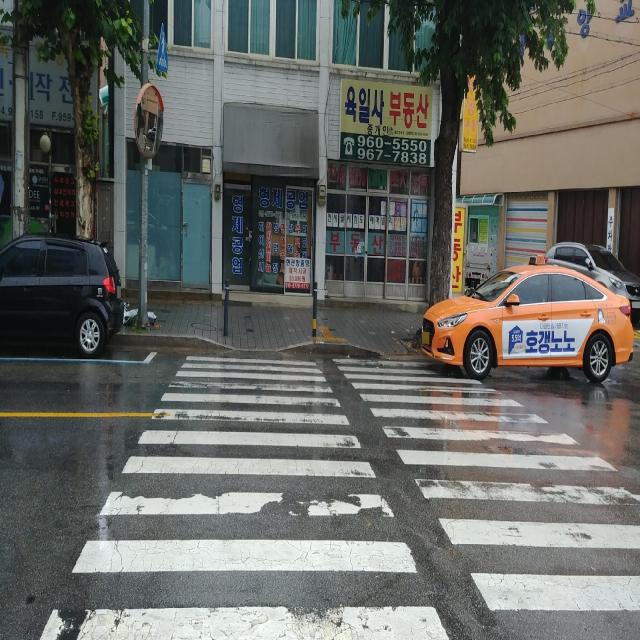횡단보도: (36, 351, 640, 640)
